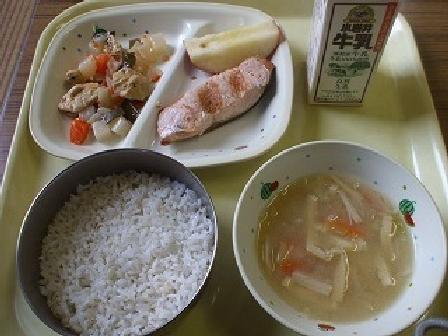Apple: (173, 14, 289, 69)
Fish: (156, 65, 282, 145)
Milk: (306, 1, 410, 107)
Rice: (17, 155, 217, 334)
Soups: (234, 147, 436, 332)
salad with sauce: (47, 25, 164, 142)
